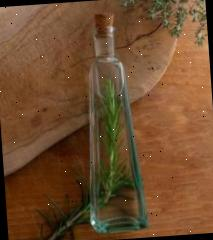glass: (74, 10, 150, 235)
